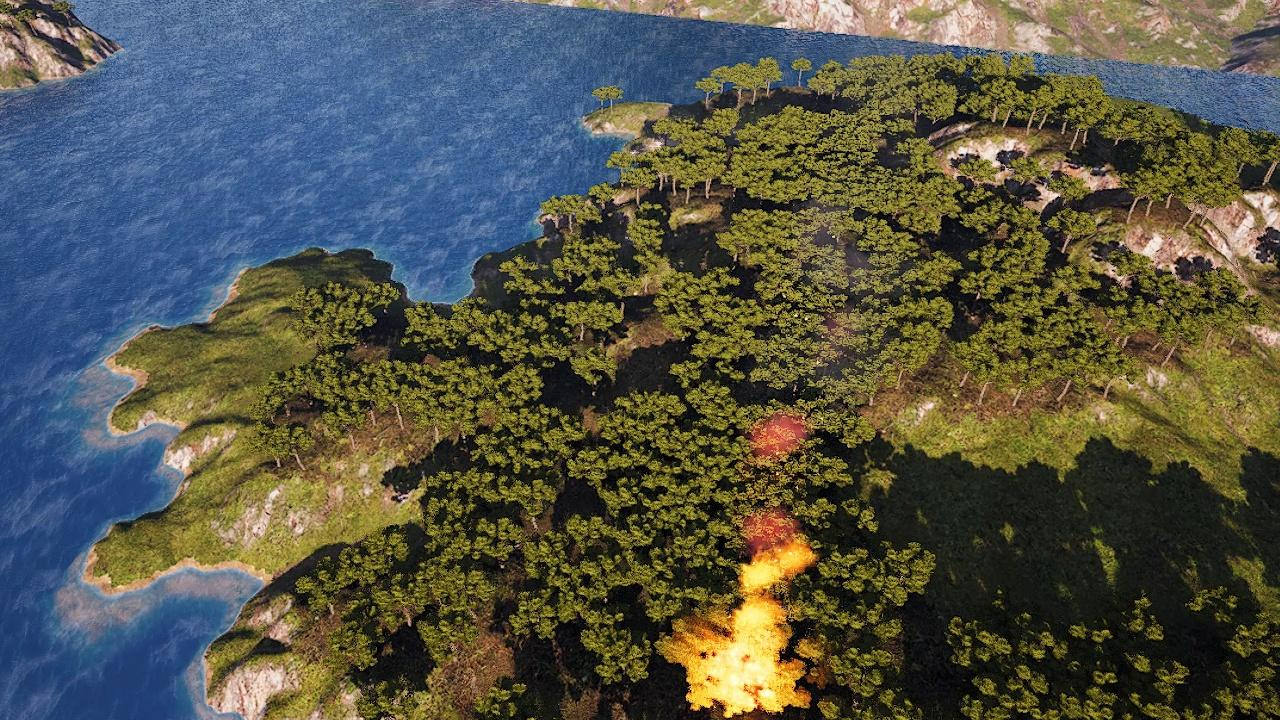fire: (684, 605, 795, 720), (740, 544, 815, 595)
smoke: (750, 410, 812, 465)
